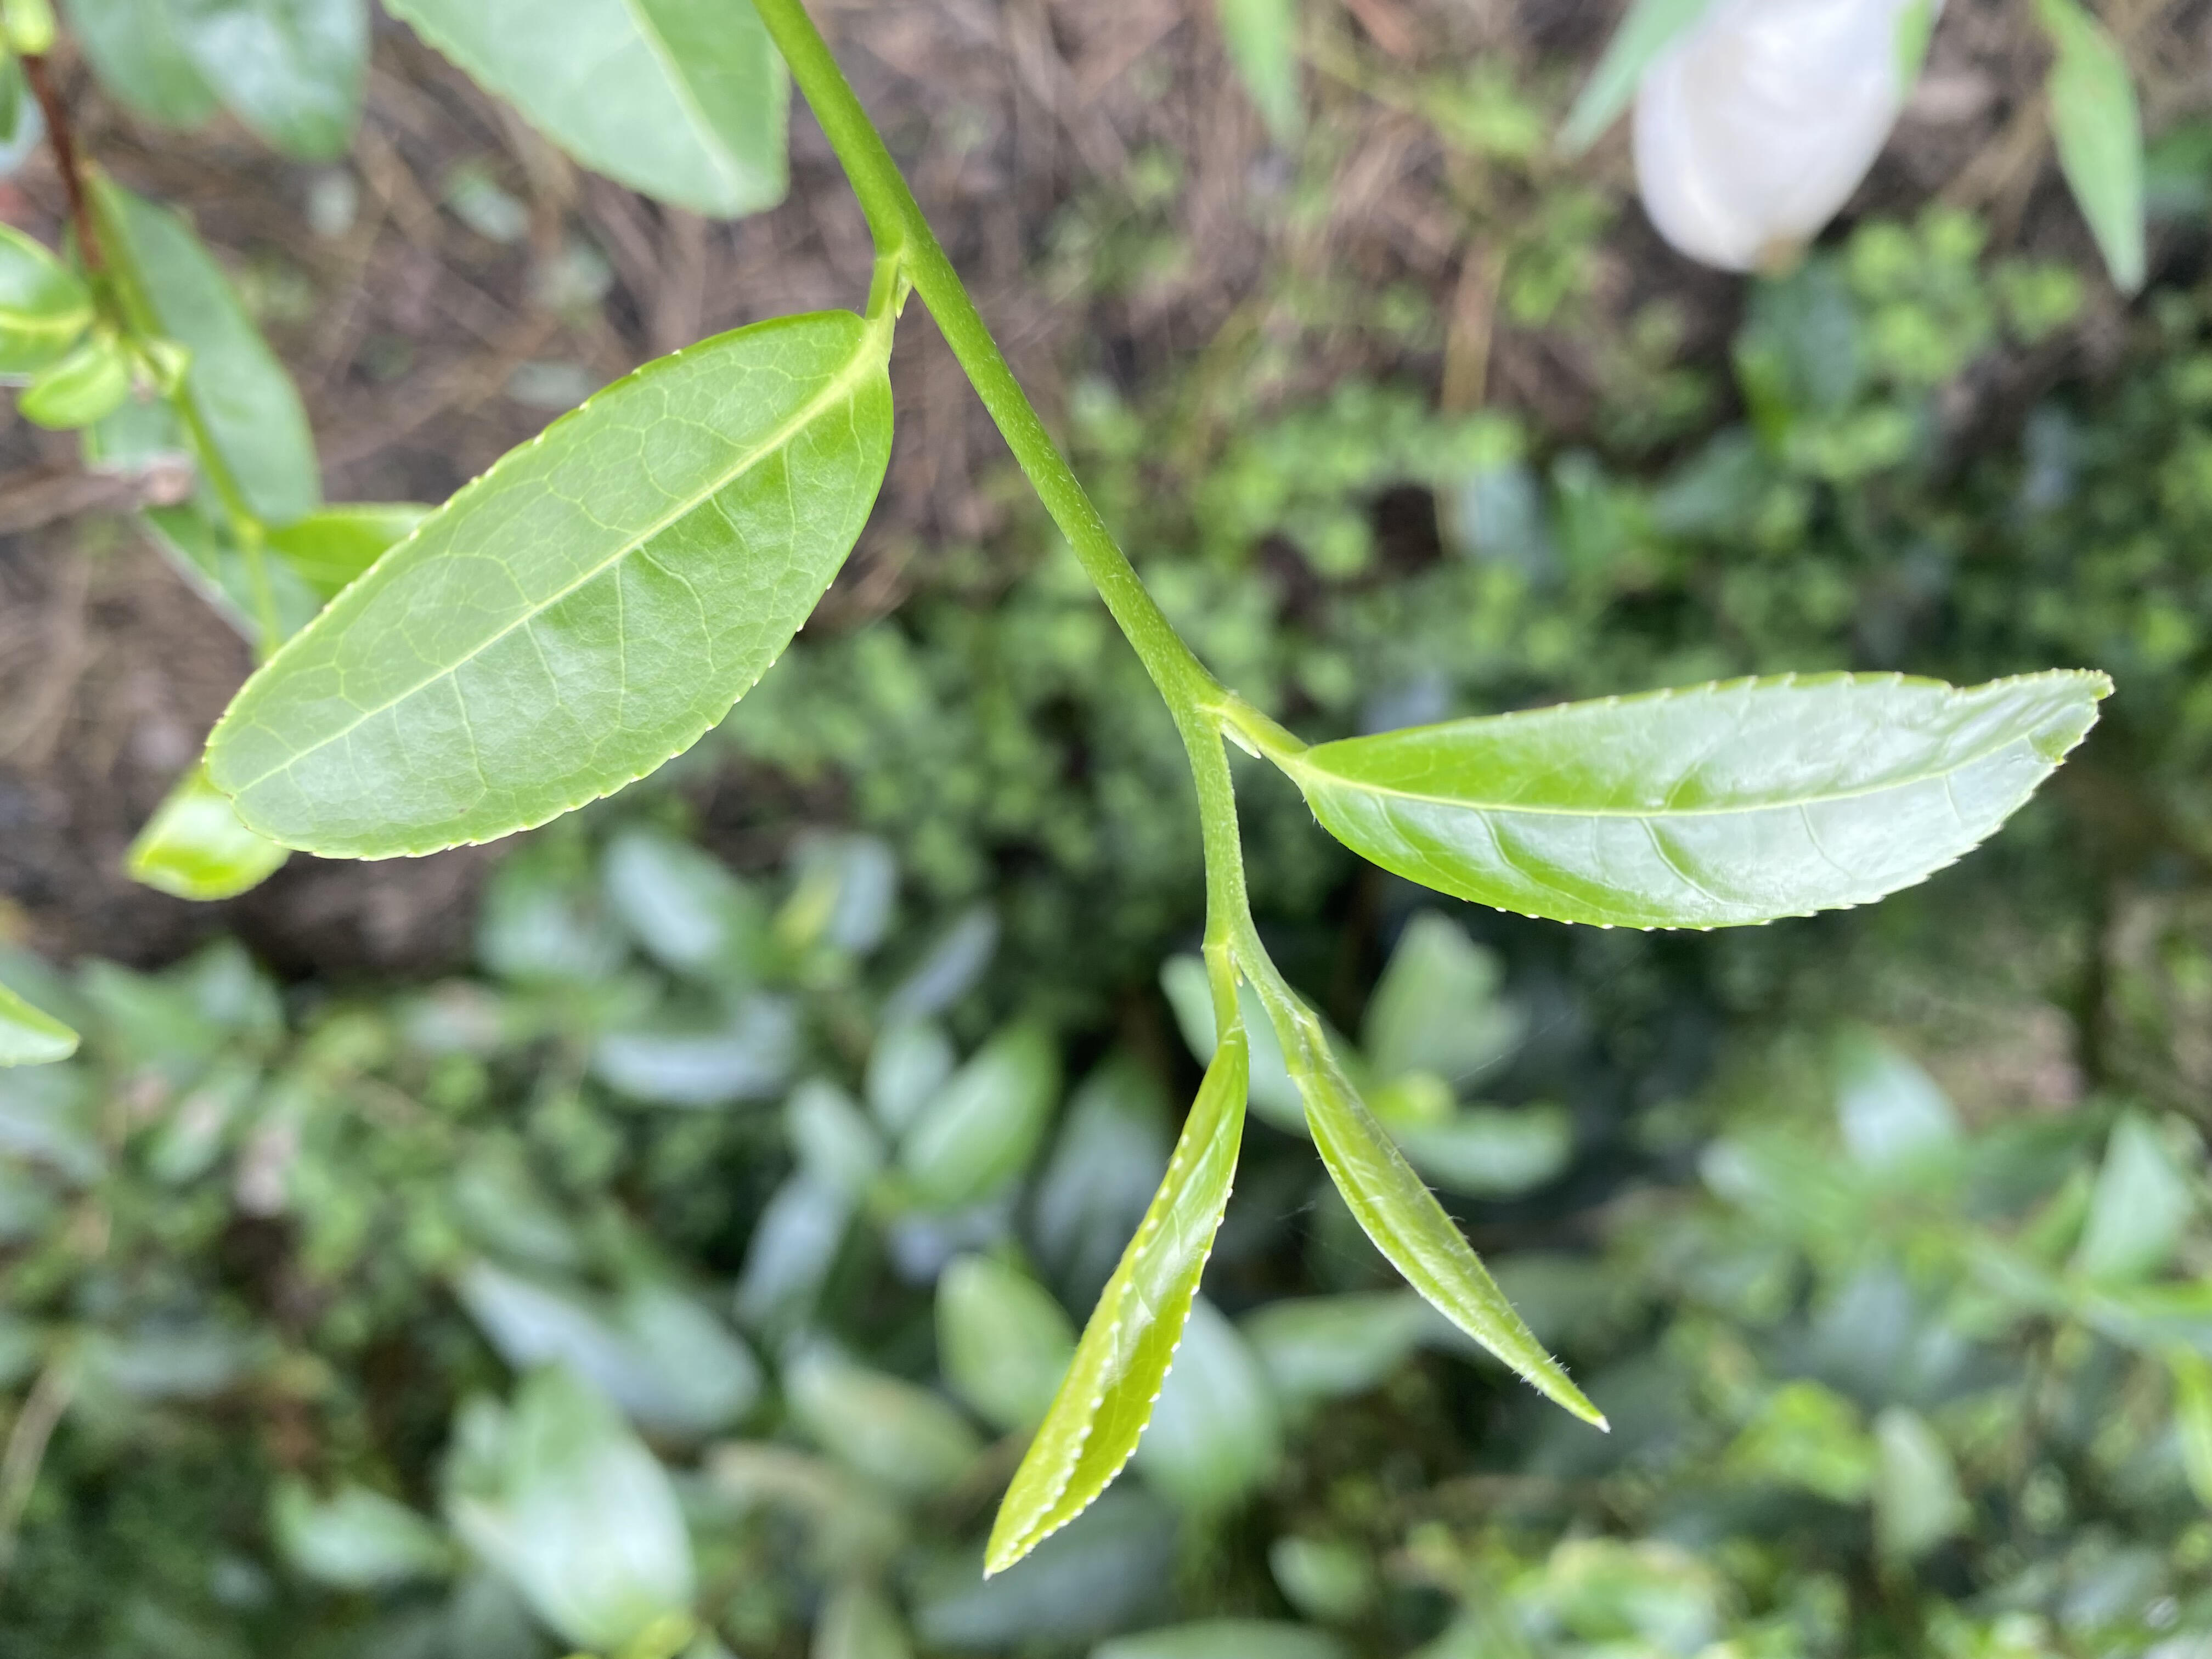healthy: (200, 308, 897, 870), (1305, 666, 2116, 932)
